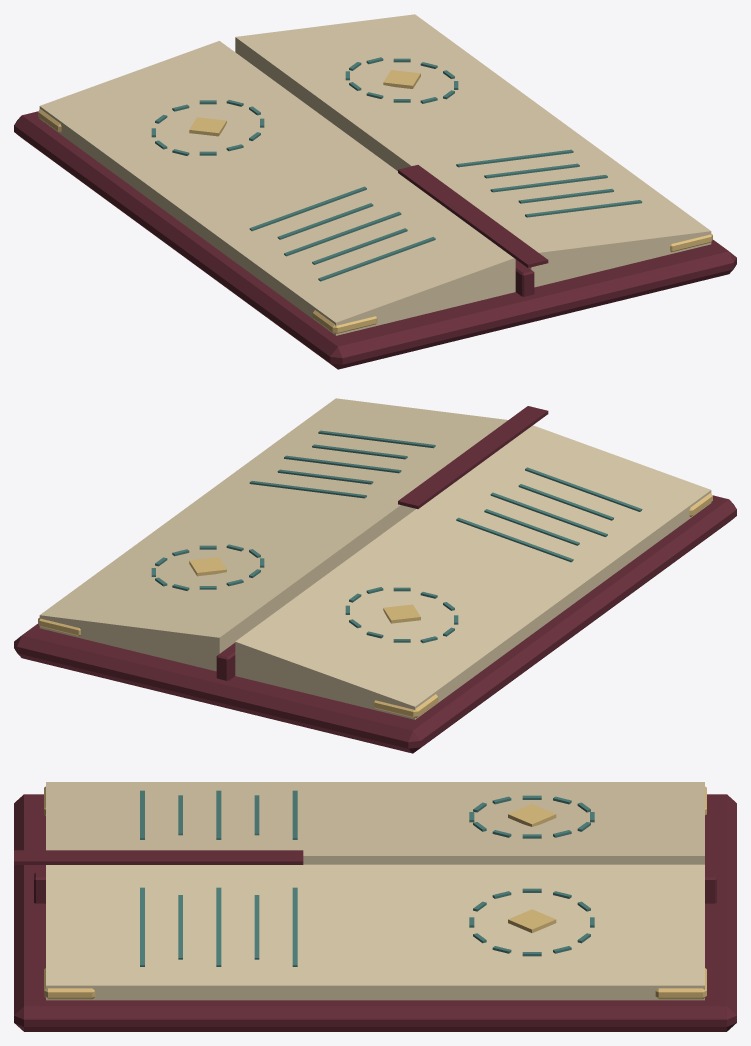
Rendered from wizard_open_tome.glb.
3 renders of one model, top to bottom at view 1: azimuth 30°, elevation 25°; view 2: azimuth 150°, elevation 25°; view 3: azimuth 270°, elevation 25°, orthographic. The views are drawn at different scales.
Parts seen in each view (by area): view 1: wizard_open_tome_Static; view 2: wizard_open_tome_Static; view 3: wizard_open_tome_Static.
Part boxes in pixels (x1,y1,x2,y2): wizard_open_tome_Static: (14,14,736,369); wizard_open_tome_Static: (14,398,736,753); wizard_open_tome_Static: (14,782,736,1031).
Bounding box in the file's own units: 1.3 × 0.192 × 1.8.
